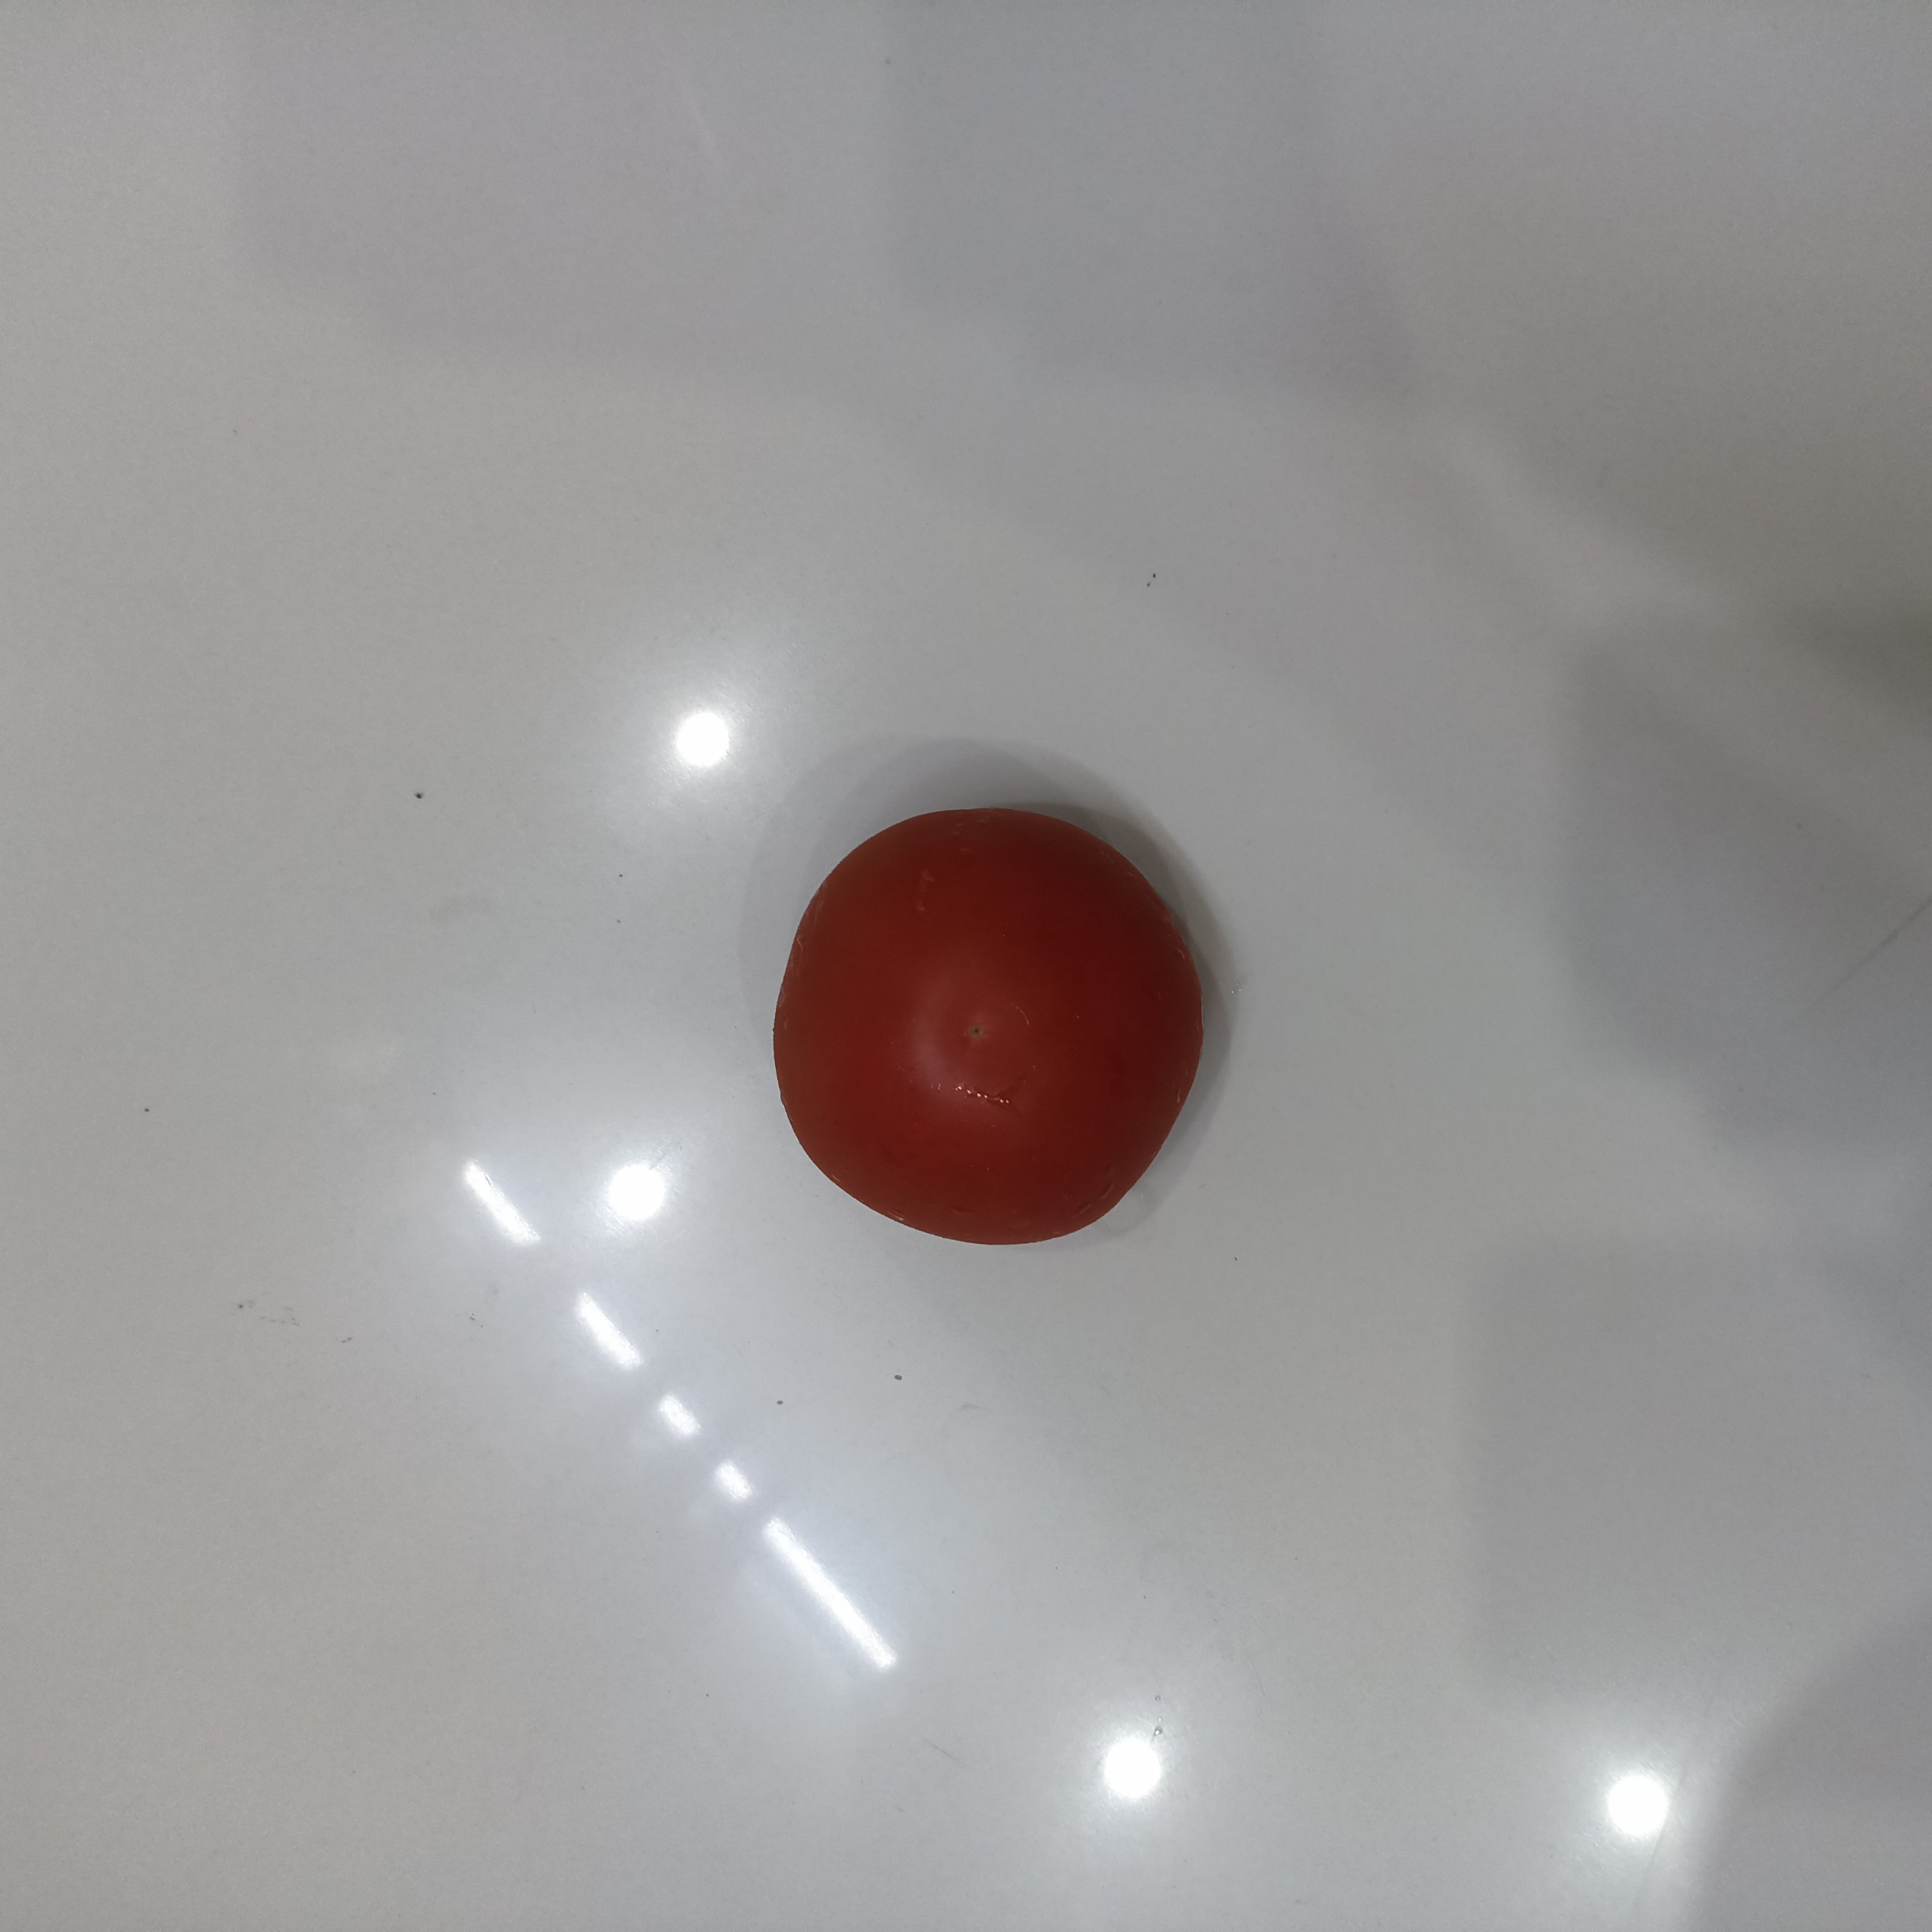Ca chua: (767, 806, 1211, 1247)
